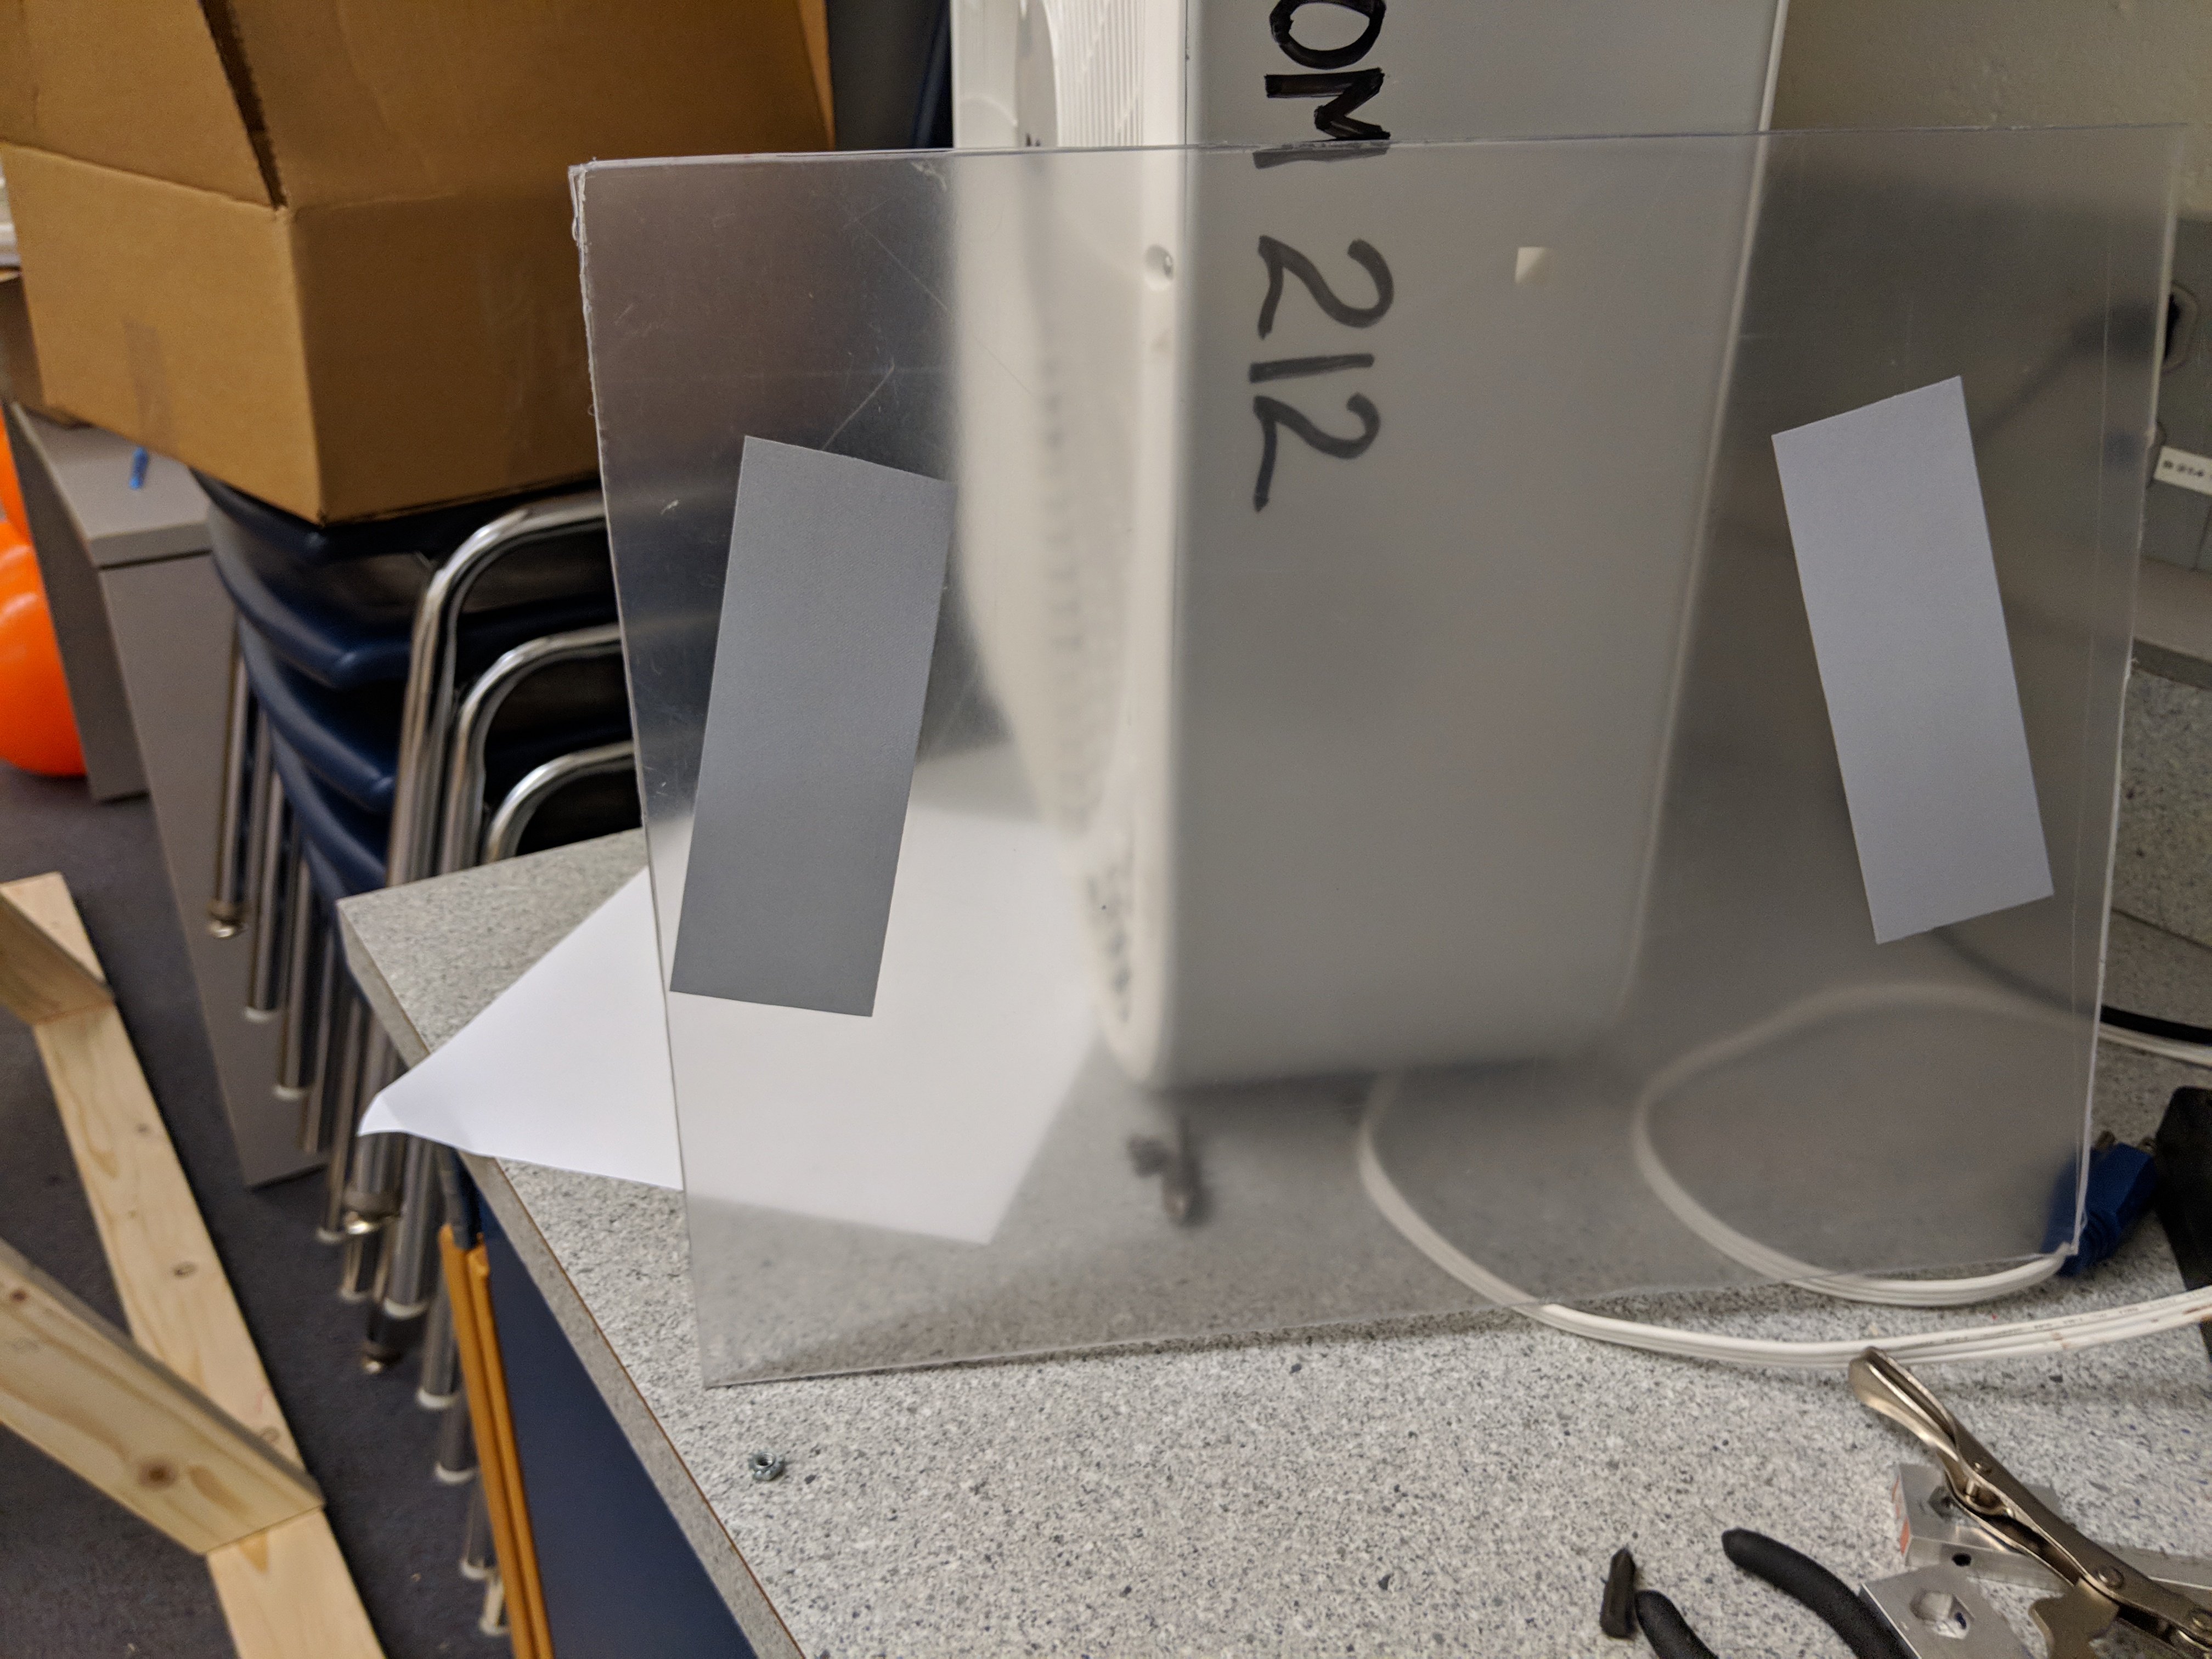vision_target: (653, 362, 2074, 1035)
